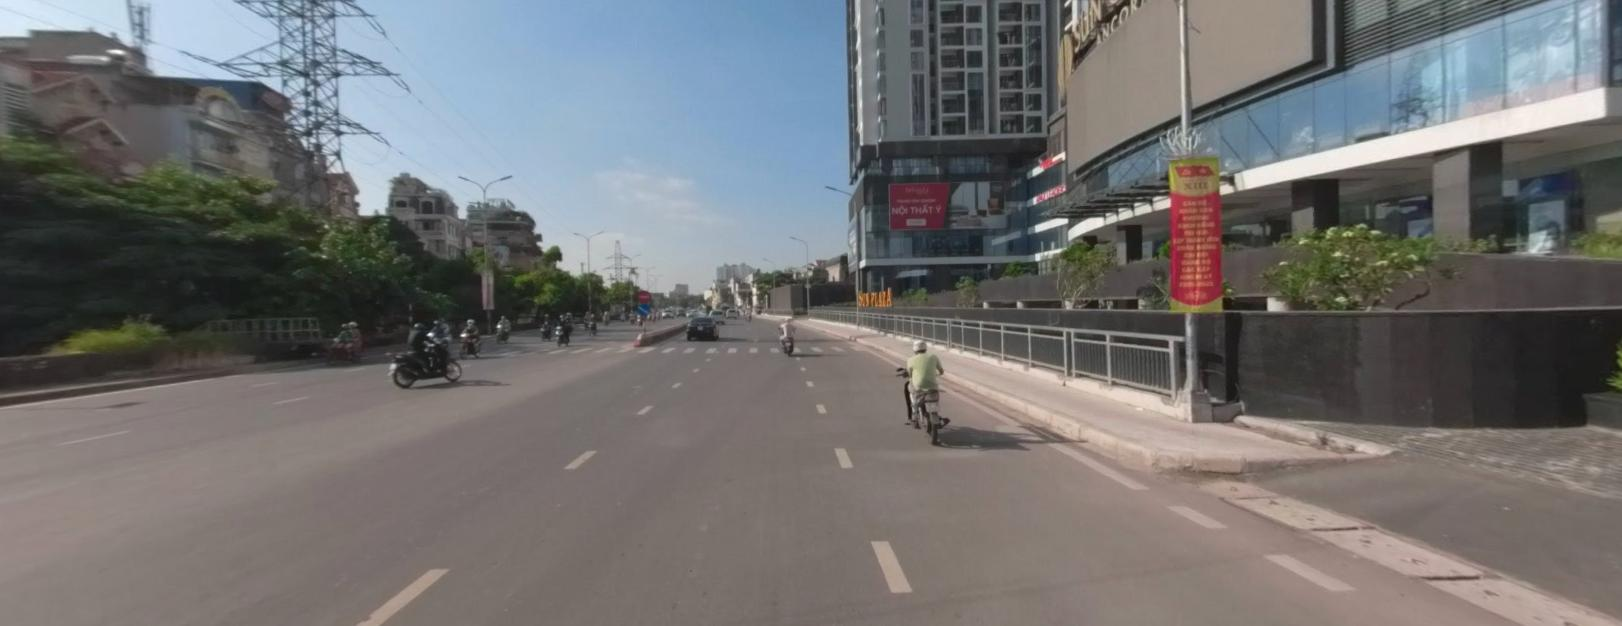Cam nguoc chieu: (636, 289, 650, 300)
Hieu lenh: (637, 303, 649, 314)
